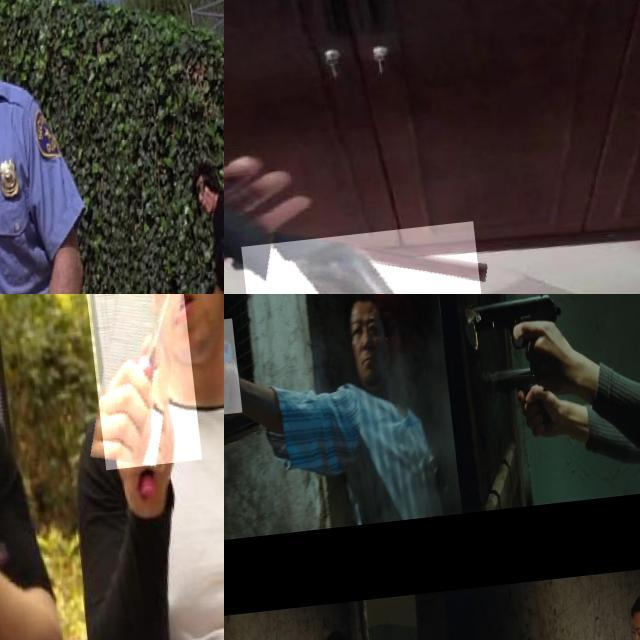-: (76, 294, 193, 478), (235, 230, 483, 294)
gun-knife-thesis - v11 Yolov5 augmented: (464, 294, 566, 413), (480, 368, 546, 447), (224, 321, 266, 421)
